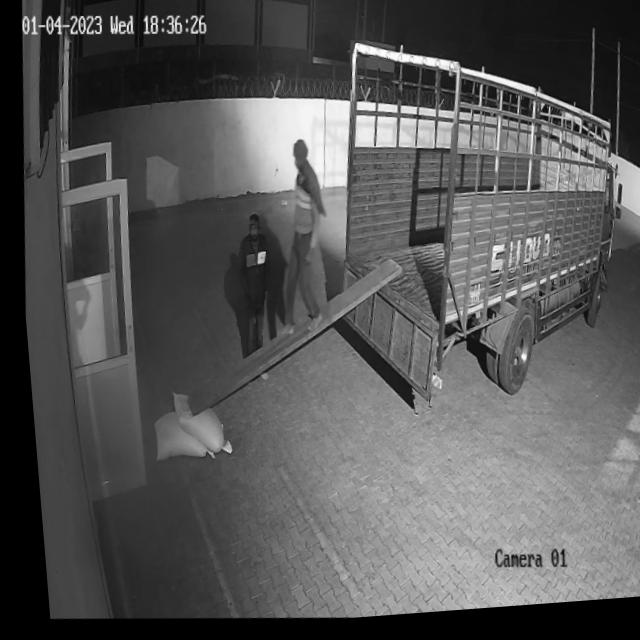sack: (160, 389, 229, 460), (142, 409, 210, 467)
